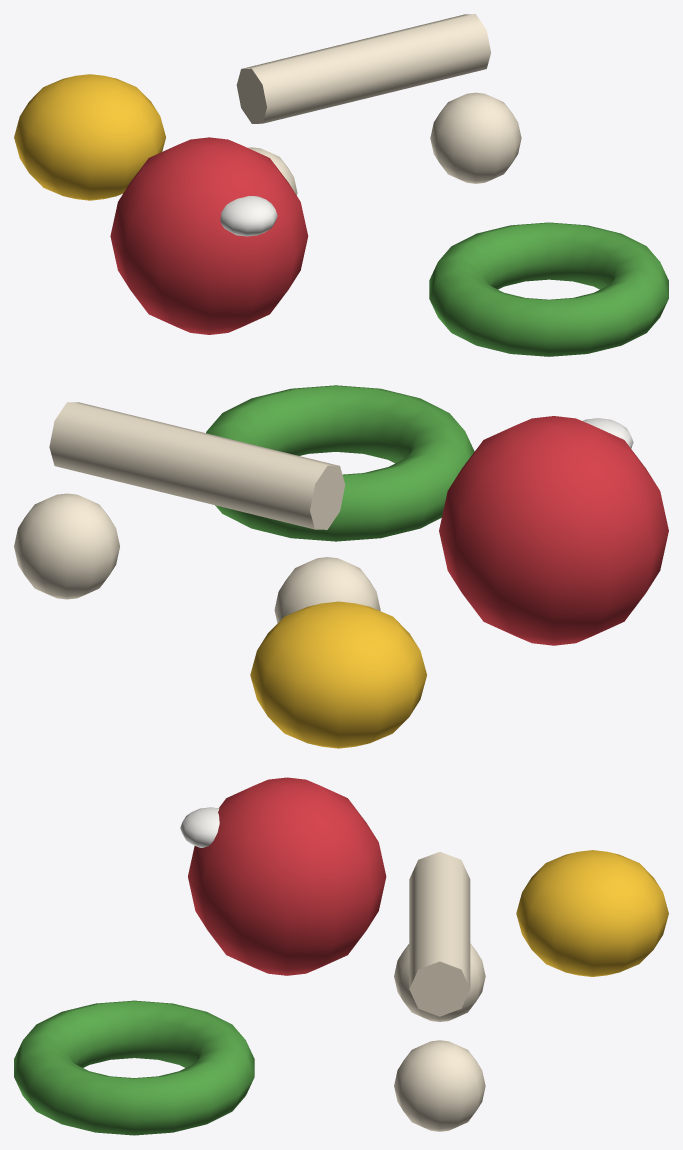
Rendered from pet_toys.glb.
3 views of the same model, one above another, from view 1: azimuth 30°, elevation 25°; view 2: azimuth 150°, elevation 25°; view 3: azimuth 270°, elevation 25° (orthographic). The views are drawn at different scales.
Visible parts, largest first — view 1: root; view 2: root; view 3: root.
Part boxes in pixels (x1,y1,x2,y2): root: (14,14,668,356); root: (14,385,668,748); root: (14,777,668,1135).
Size of the model in its own units: 0.71 by 0.26 by 0.8576.
